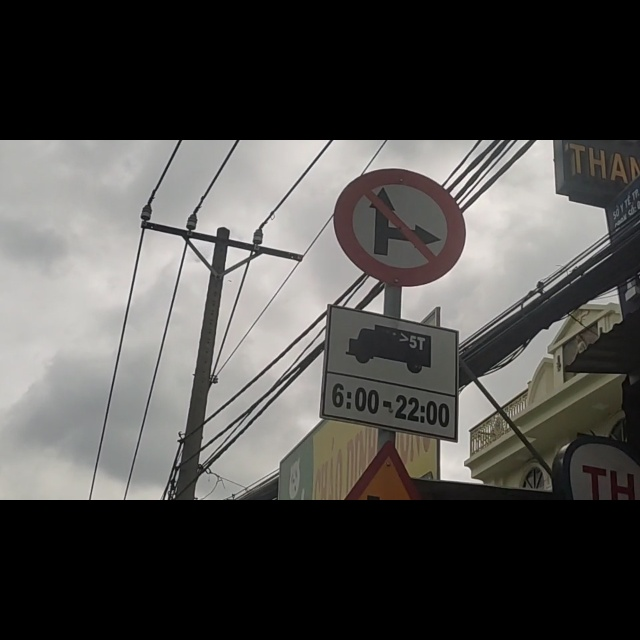bien_cam: (323, 300, 461, 526), (337, 57, 463, 251)
